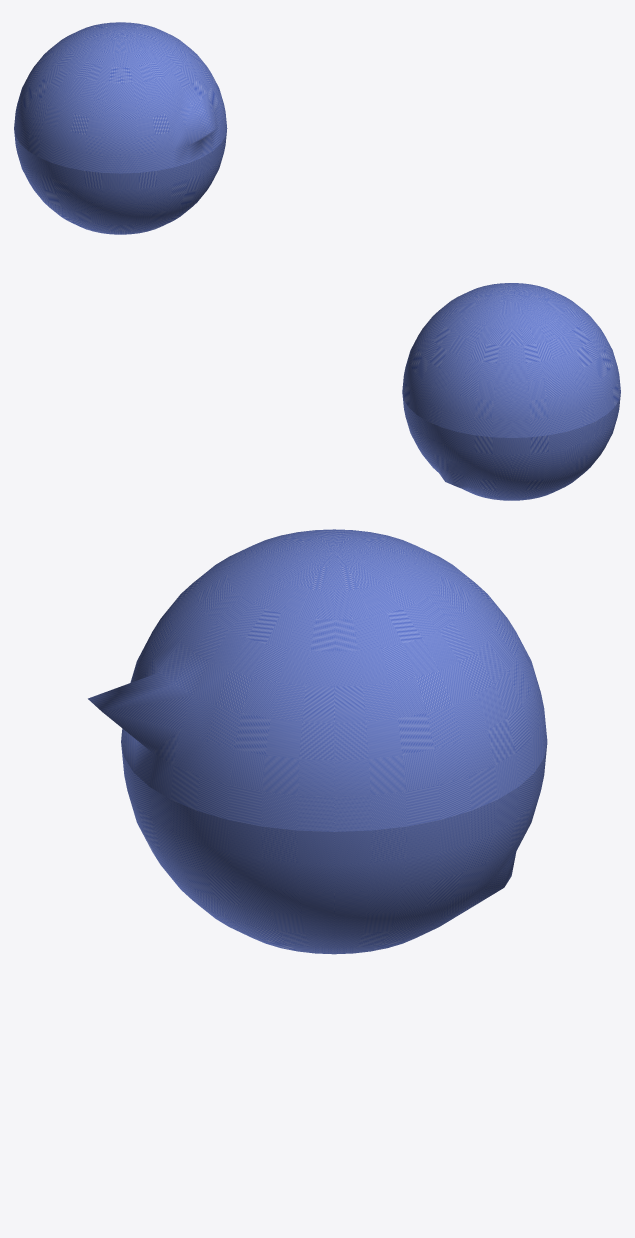
3 views of the same model, one above another, from view 1: azimuth 30°, elevation 25°; view 2: azimuth 150°, elevation 25°; view 3: azimuth 270°, elevation 25° (orthographic). The views are drawn at different scales.
Visible parts, largest first — view 1: SketchUp; view 2: SketchUp; view 3: SketchUp.
Part boxes in pixels (bbox=[...]): SketchUp: bbox=[14, 22, 227, 234]; SketchUp: bbox=[402, 283, 620, 500]; SketchUp: bbox=[88, 529, 547, 954].
Bounding box in the file's own units: 1.25e+07 × 4246062 × 3937007.
